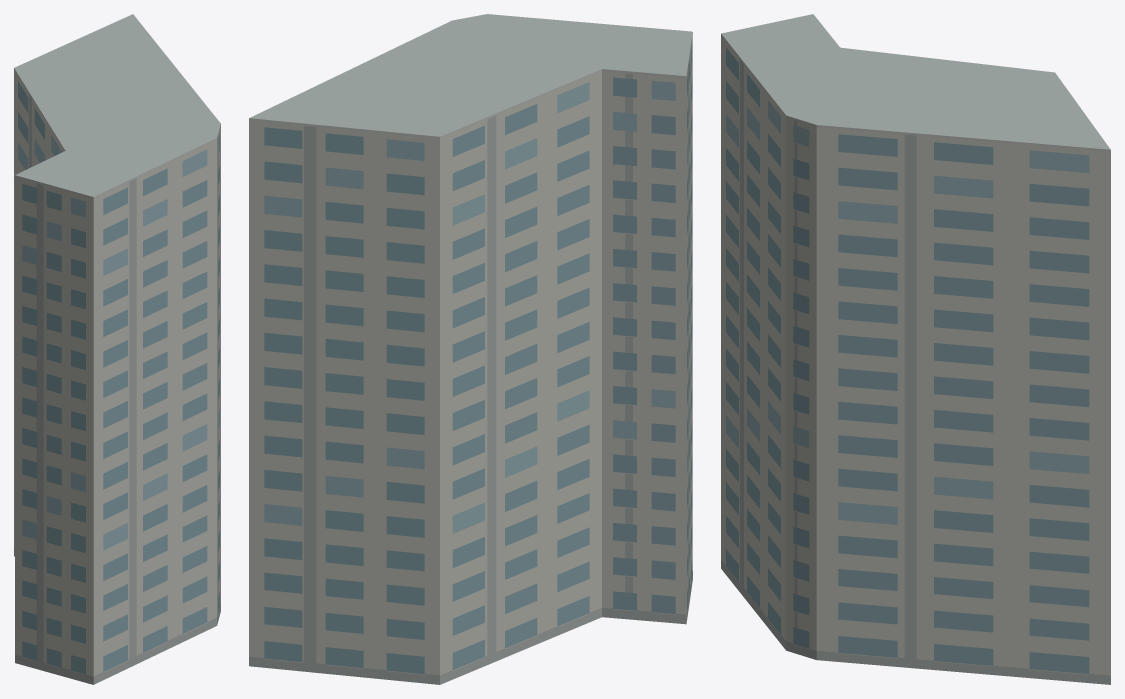
File: residential-47fc2b10-4638-4378-a9fc-359613508993.glb
3 views of the same model, side by side, from view 1: azimuth 30°, elevation 25°; view 2: azimuth 150°, elevation 25°; view 3: azimuth 270°, elevation 25° (orthographic). The views are drawn at different scales.
Visible parts, largest first — view 1: residential-47fc2b10-4638-4378-a9fc-359613508993.tmp; view 2: residential-47fc2b10-4638-4378-a9fc-359613508993.tmp; view 3: residential-47fc2b10-4638-4378-a9fc-359613508993.tmp.
Part boxes in pixels (x1,y1,x2,y2): residential-47fc2b10-4638-4378-a9fc-359613508993.tmp: (14, 14, 220, 684); residential-47fc2b10-4638-4378-a9fc-359613508993.tmp: (249, 14, 692, 684); residential-47fc2b10-4638-4378-a9fc-359613508993.tmp: (721, 14, 1110, 684).
Size of the model in its own units: 31.57 by 58 by 38.29.
